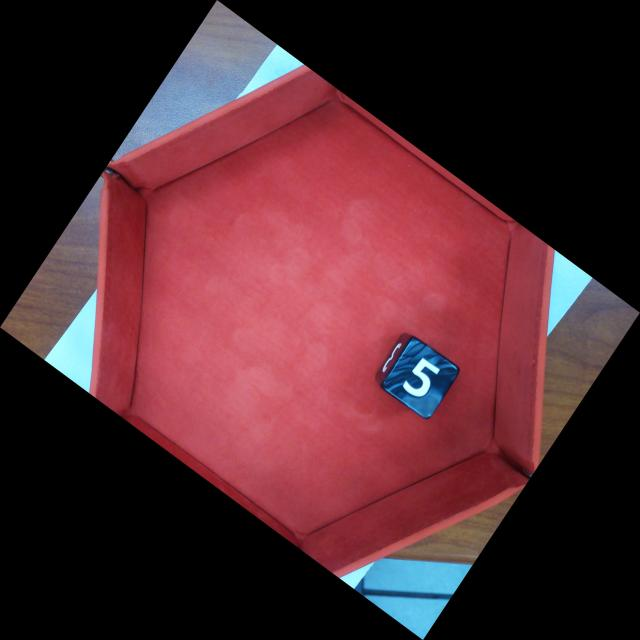dice: (378, 336, 464, 422)
